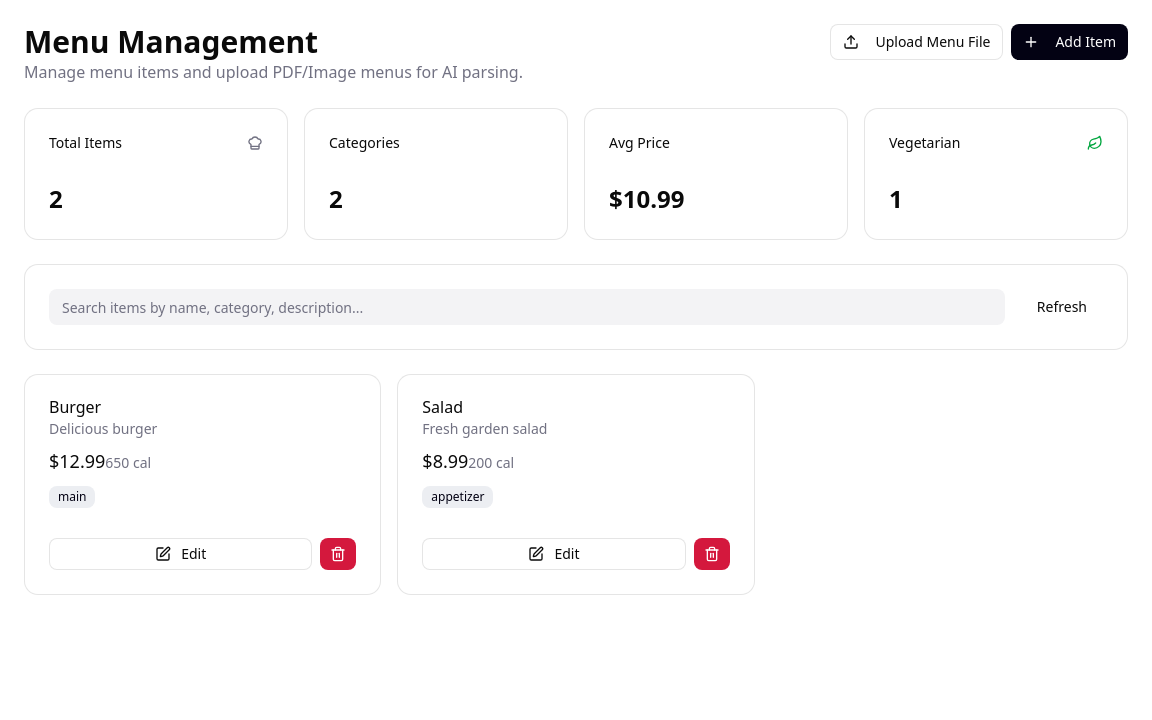
Test: MenuManagement Component › Edit Item Dialog › opens edit dialog with pre-filled data
Expected: the heading "Burger" is shown, [49,396,101,418]
Click the button "Edit" below "main" at {"x": 181, "y": 554}, box [49,538,312,570]
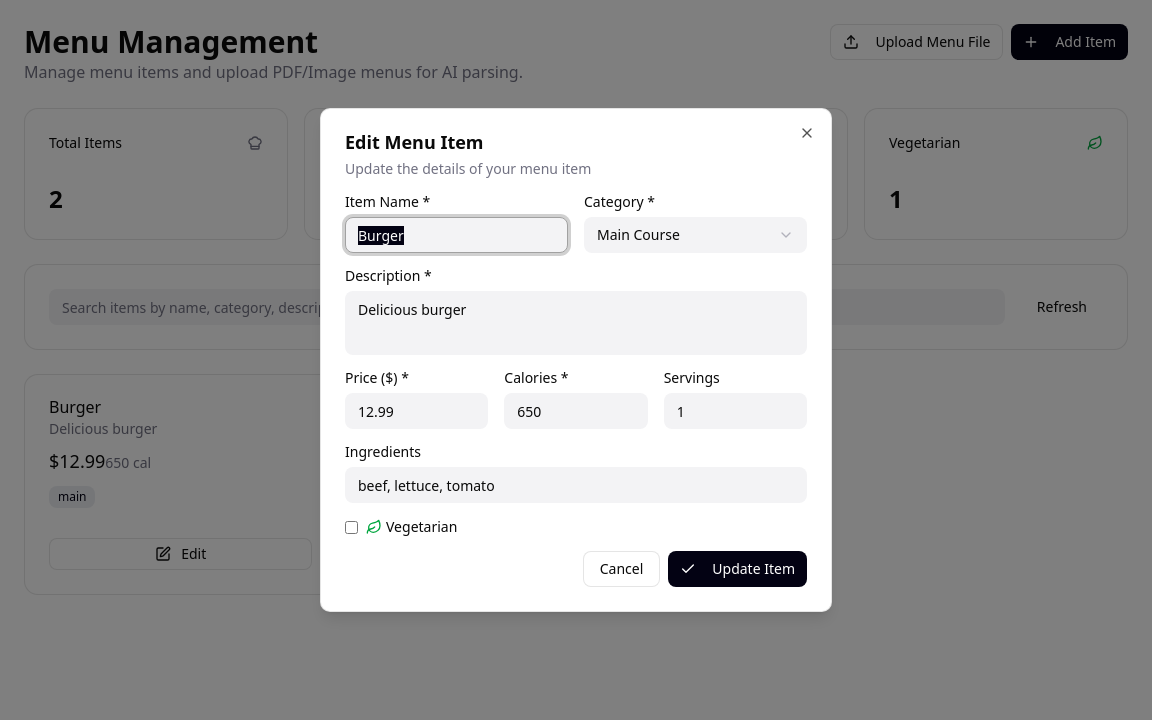
Now the heading "Edit Menu Item" is shown, box [345,130,484,154]
Now the field showing "Burger" is shown, box [345,217,568,253]
Now the text box showing "Delicious burger" is shown, box [345,291,807,355]
